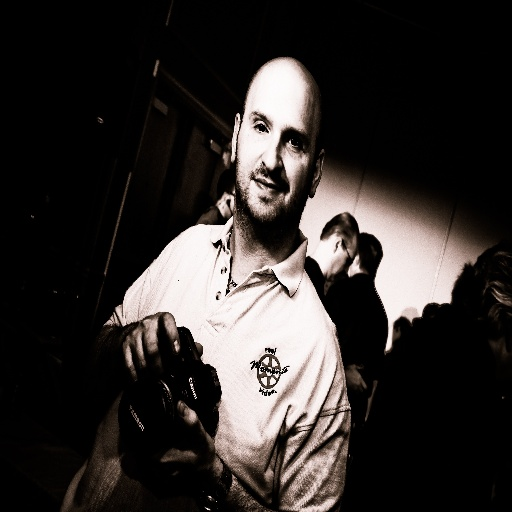hand: (100, 313, 194, 412), (116, 399, 216, 489), (342, 363, 366, 388)
